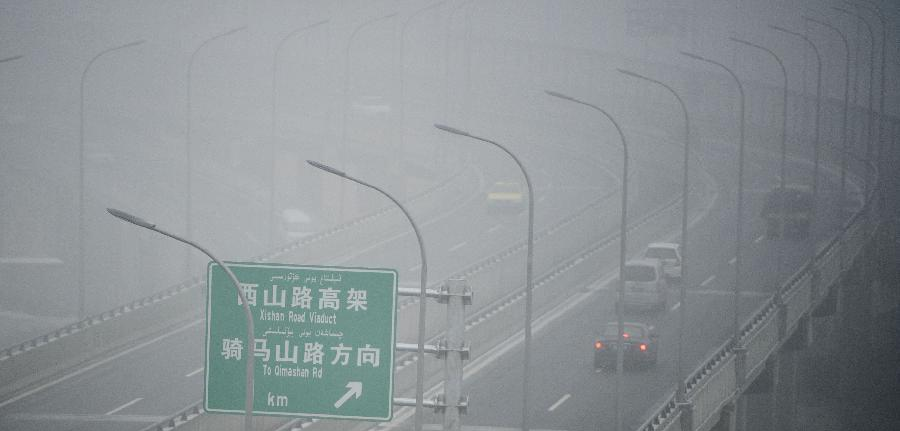car: (614, 256, 672, 313), (593, 320, 659, 367), (765, 181, 814, 239), (641, 240, 689, 279), (278, 208, 316, 245), (485, 180, 525, 214), (348, 93, 391, 121)
